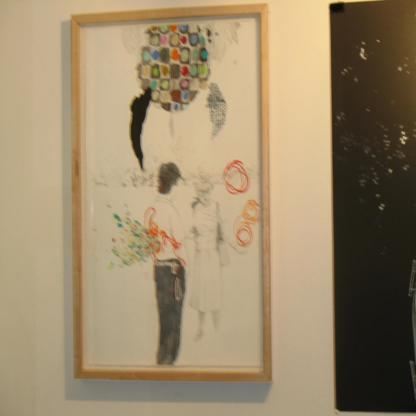Picture-frame: (71, 5, 274, 385)
